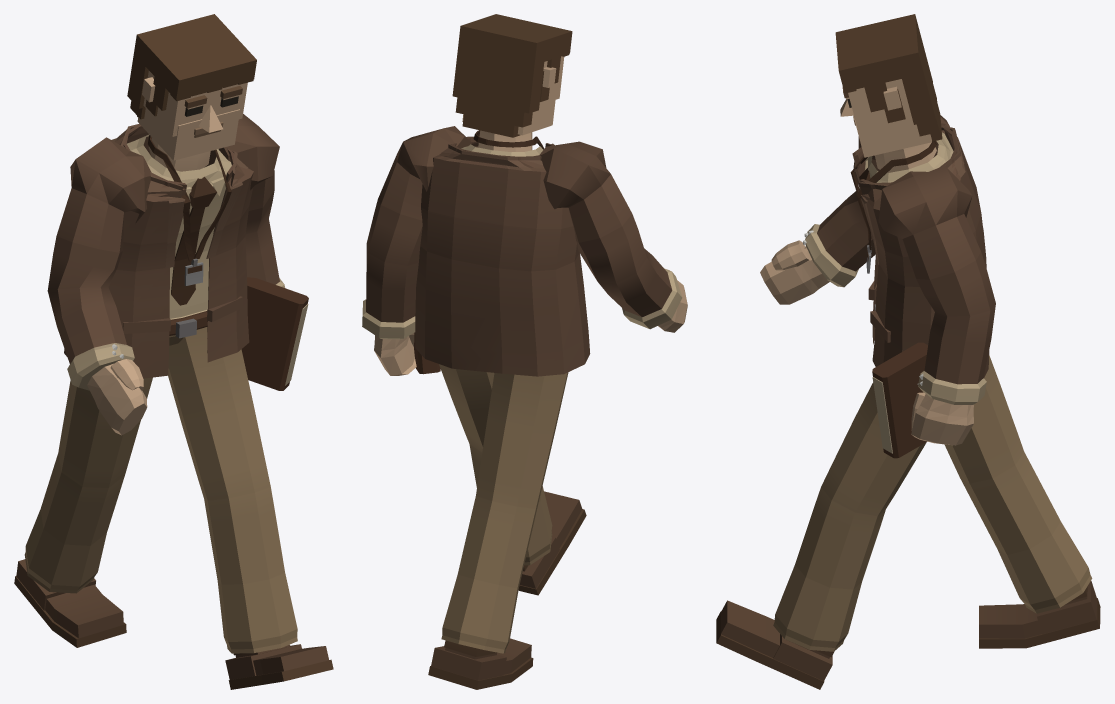
Rendered from school-teacher-8b8bfc__walk0.glb.
3 views of the same model, side by side, from view 1: azimuth 30°, elevation 25°; view 2: azimuth 150°, elevation 25°; view 3: azimuth 270°, elevation 25° (orthographic). The views are drawn at different scales.
Parts seen in each view (by area): view 1: school-teacher-8b8bfc__walk0; view 2: school-teacher-8b8bfc__walk0; view 3: school-teacher-8b8bfc__walk0.
Boxes of the visible parts, x1,y1,x2,y2 form: school-teacher-8b8bfc__walk0: (14, 14, 333, 689); school-teacher-8b8bfc__walk0: (362, 14, 687, 689); school-teacher-8b8bfc__walk0: (716, 14, 1100, 689).
Bounding box in the file's own units: 0.7575 × 1.68 × 0.9332.
